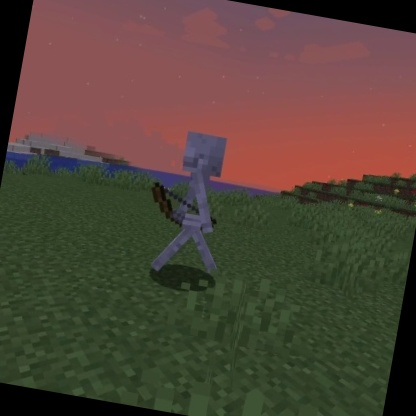skeleton: (133, 122, 244, 286)
